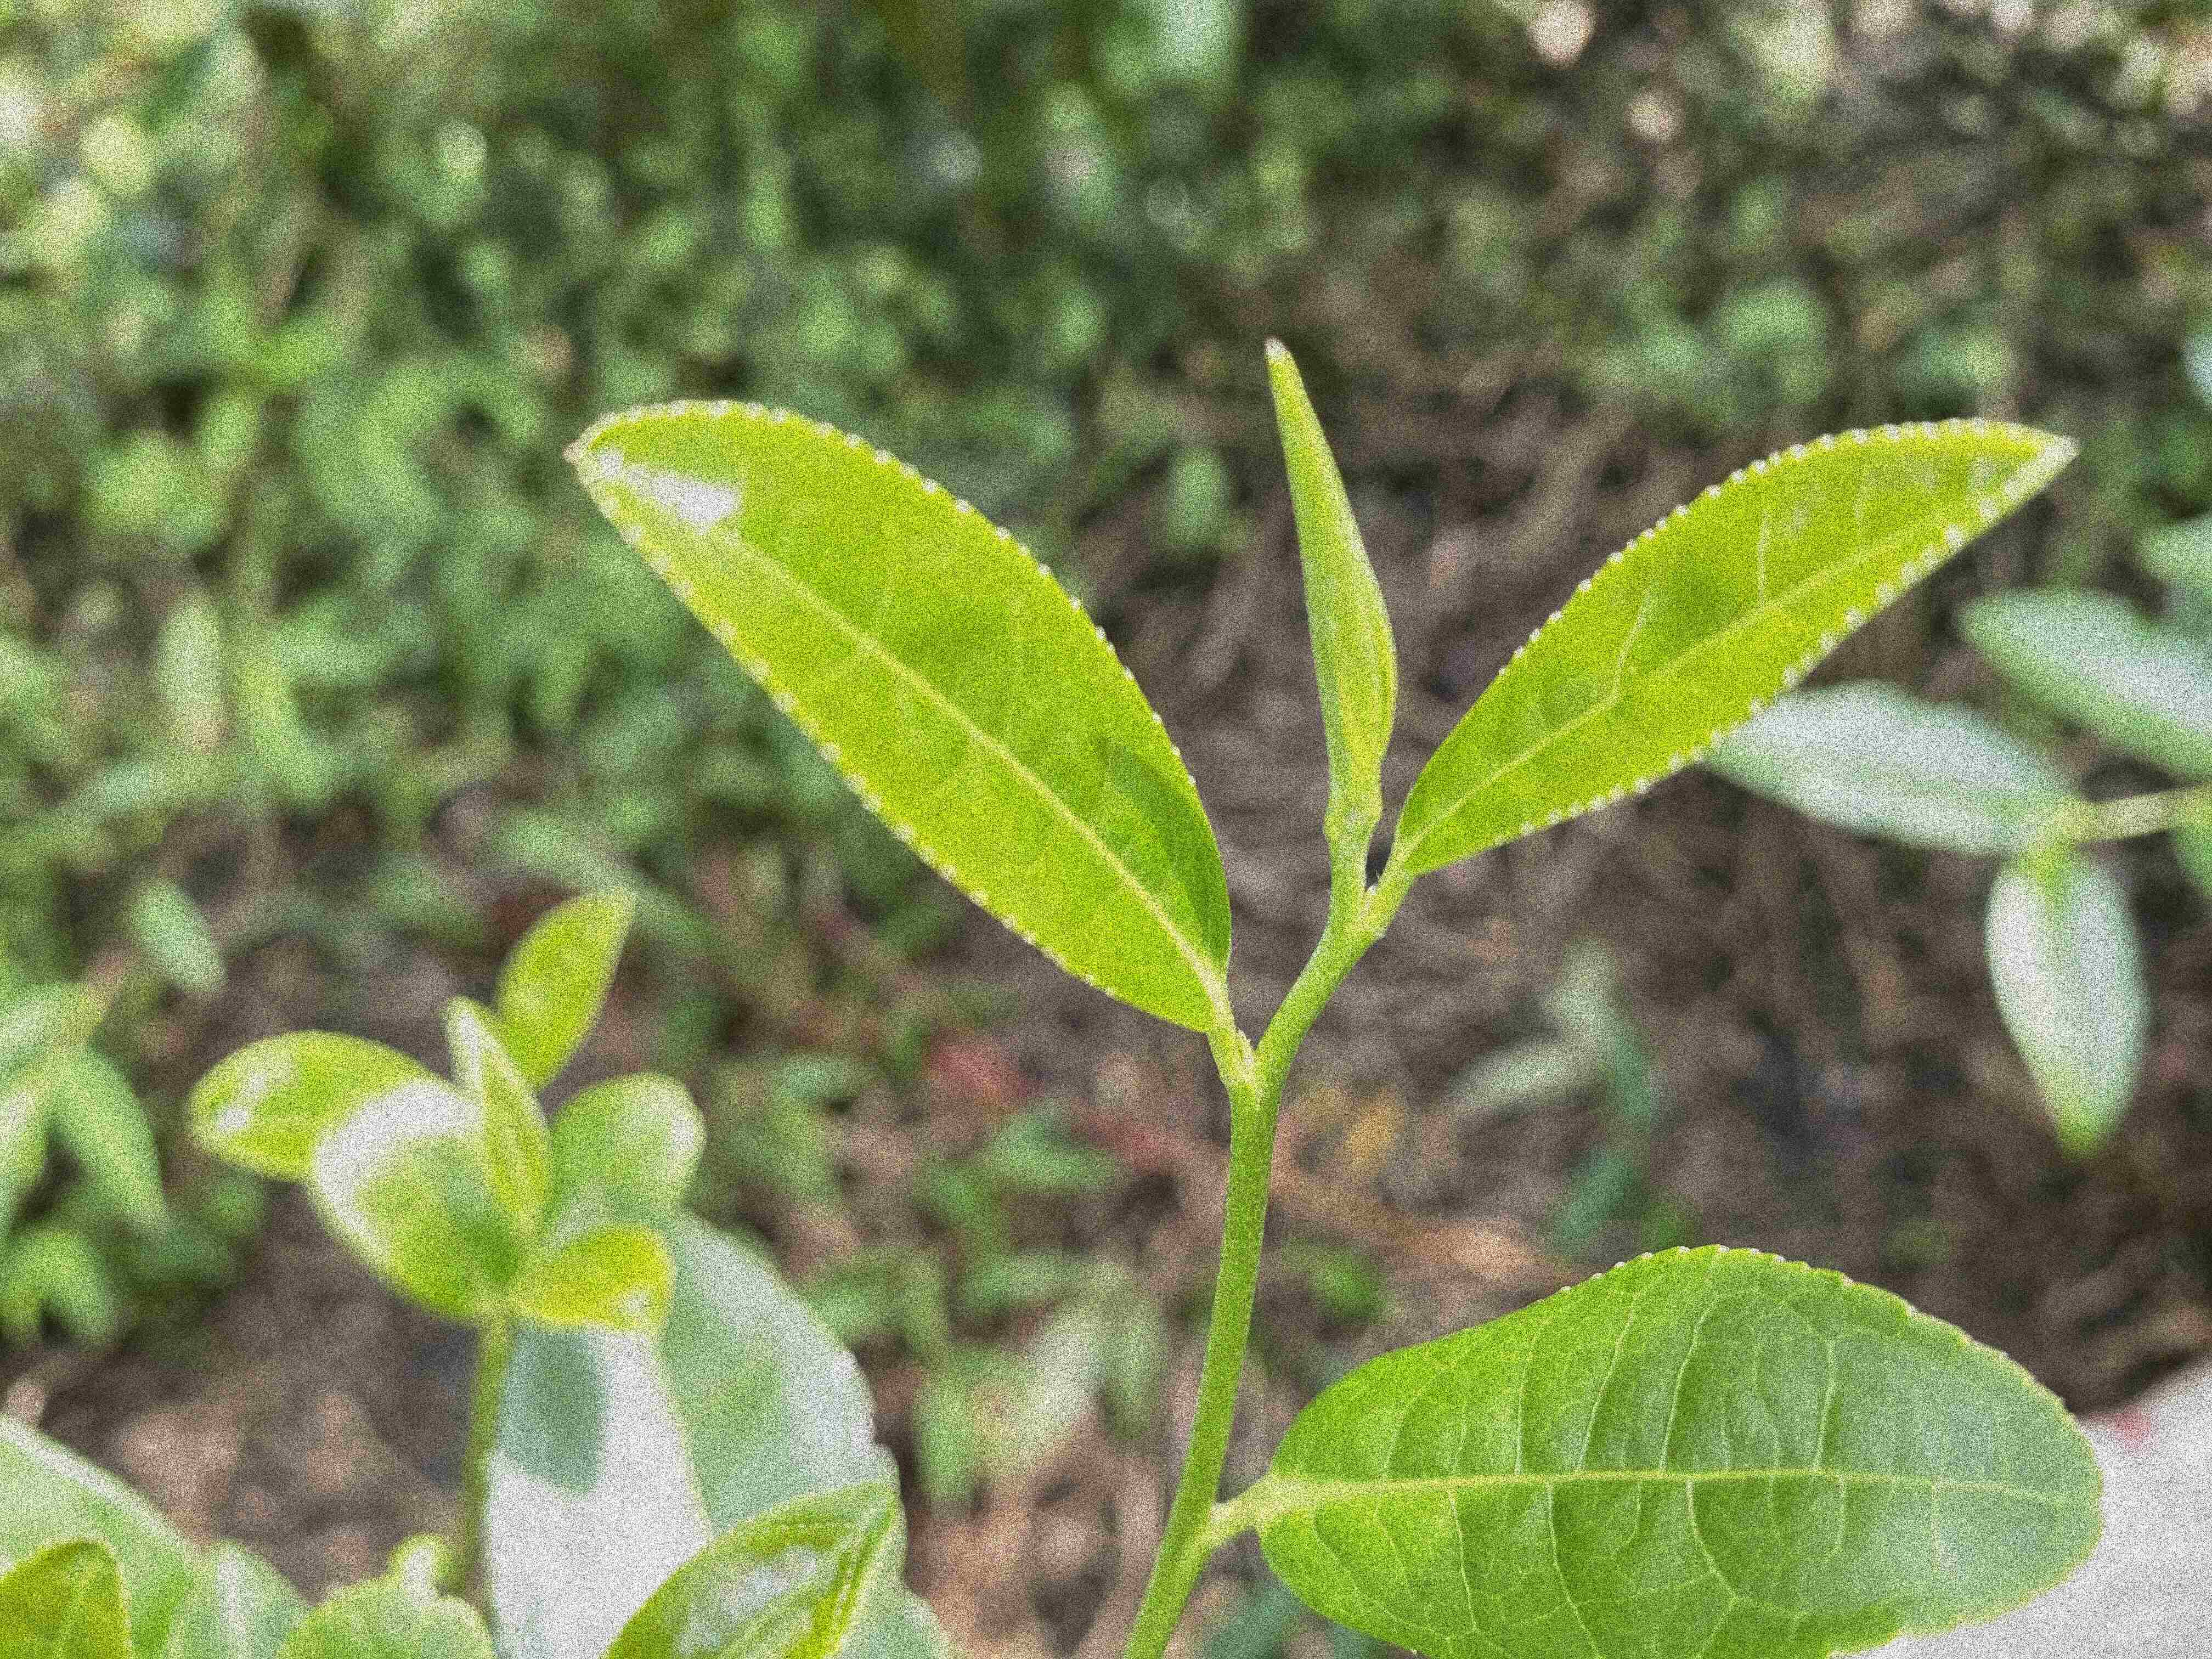healthy: (559, 394, 1235, 1035), (1254, 1243, 2109, 1657), (1392, 420, 2078, 878)
